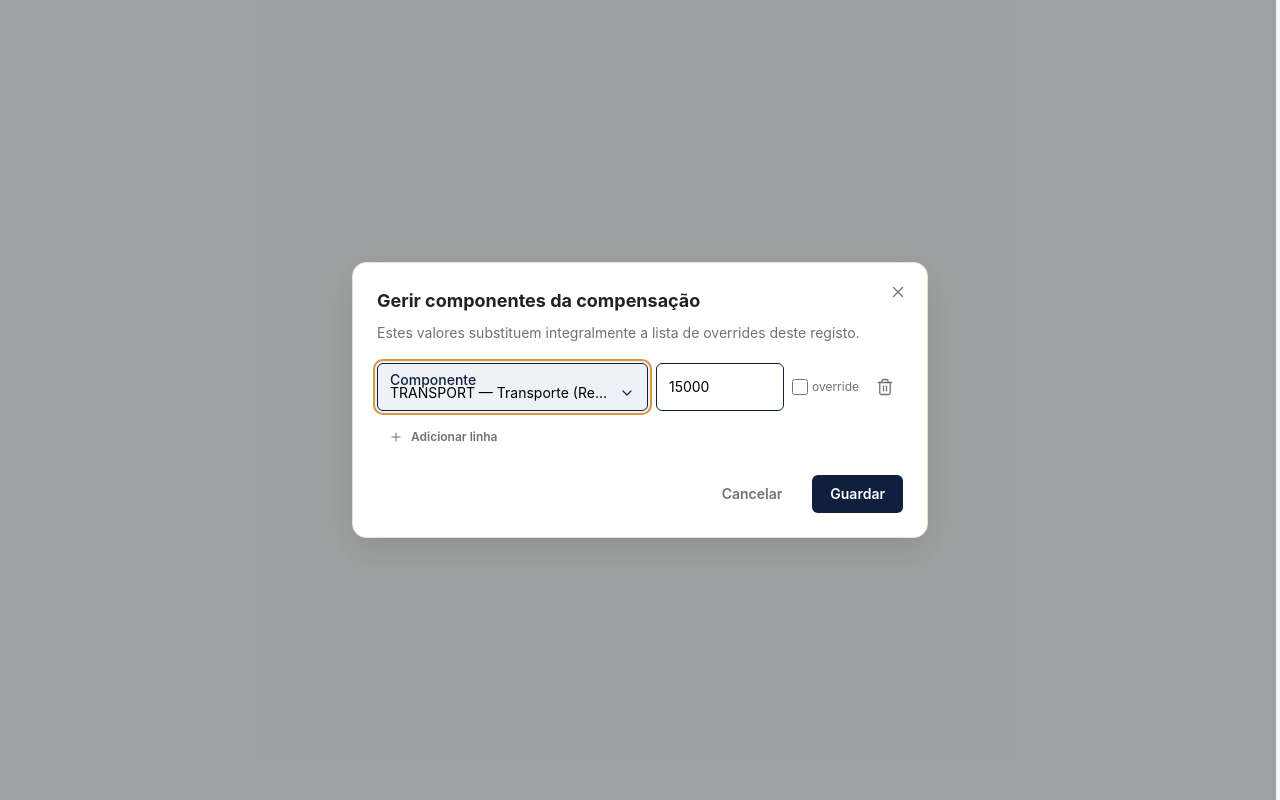
Test: CompensationComponentsEditor › F3: blocks save when a row has a value but no component selected
Click the button "Adicionar linha".
click(443, 437)  # box [377, 423, 510, 451]
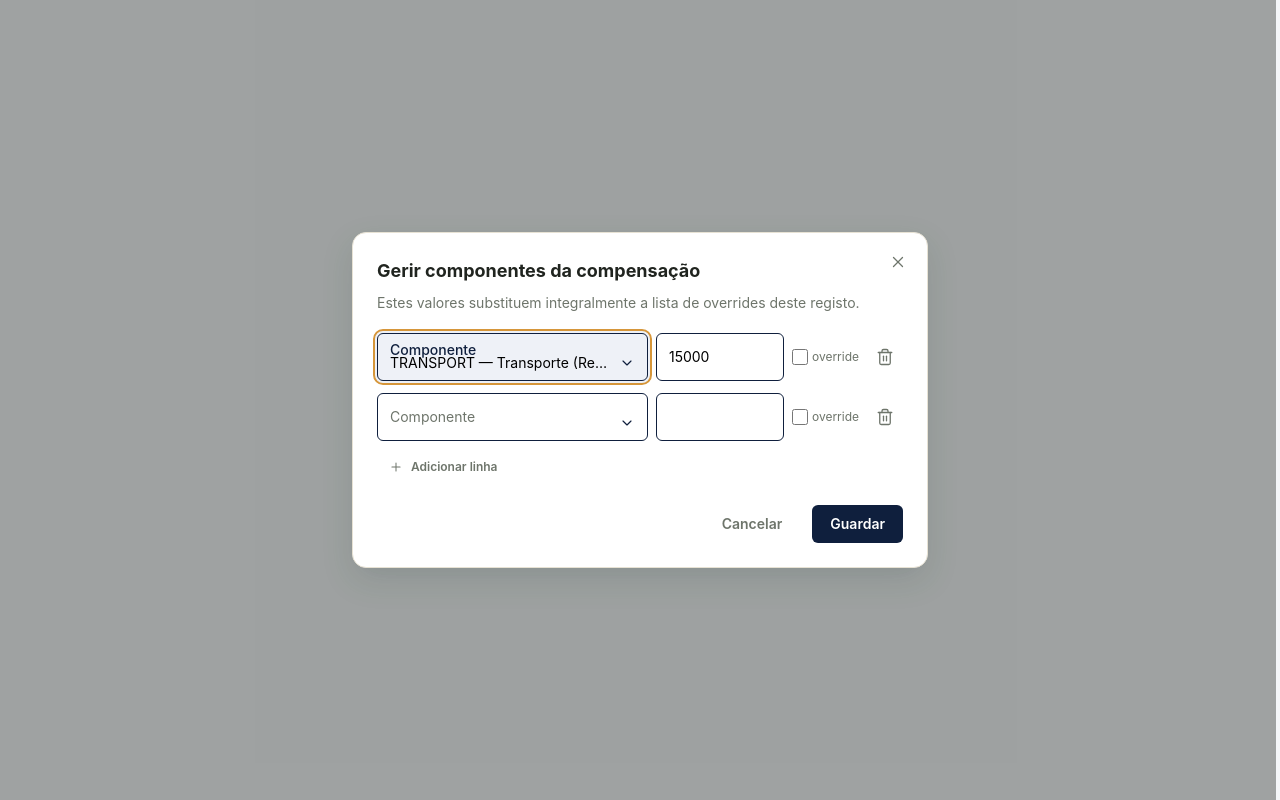
Type "5000" into the 2nd number field named "Valor".
click(720, 417); type("5000")  # box [656, 393, 784, 441]
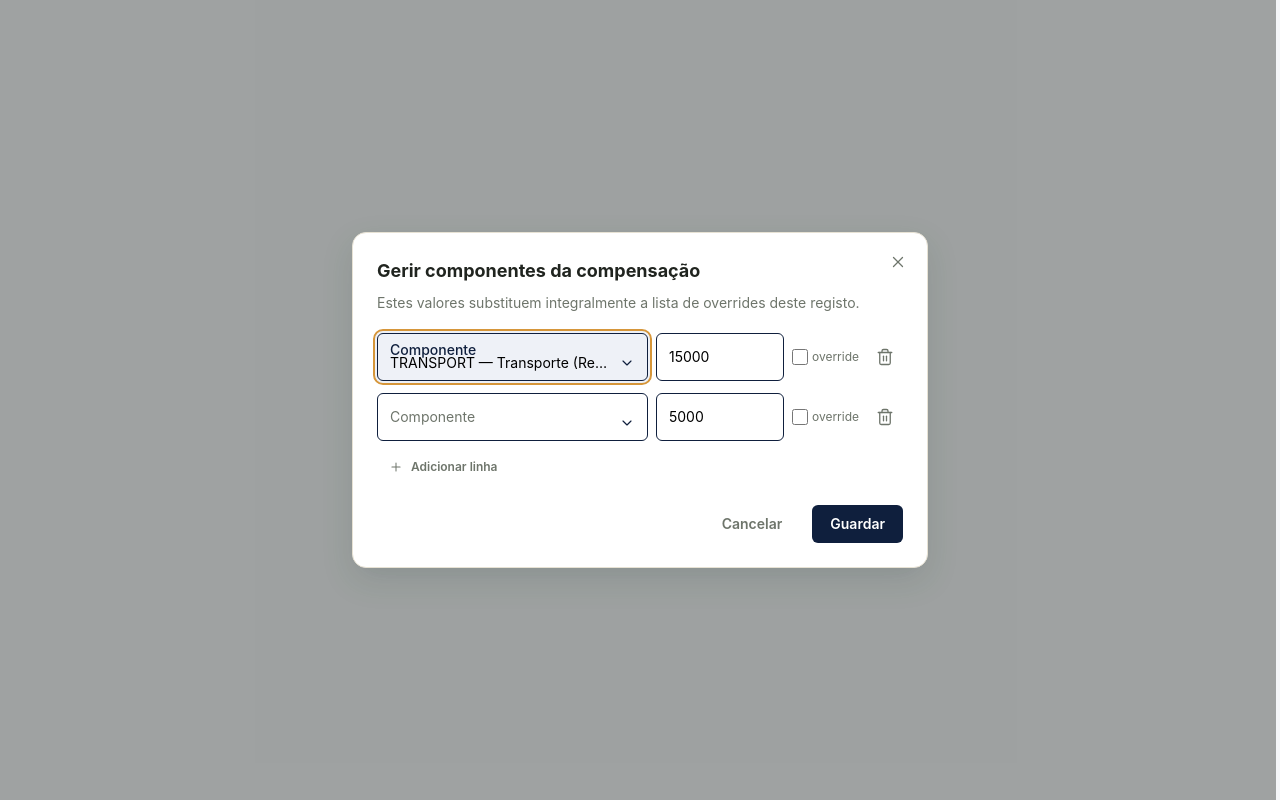
Note: component left unpicked on the new row
Click the button "Guardar".
click(858, 524)  # box [812, 505, 903, 543]
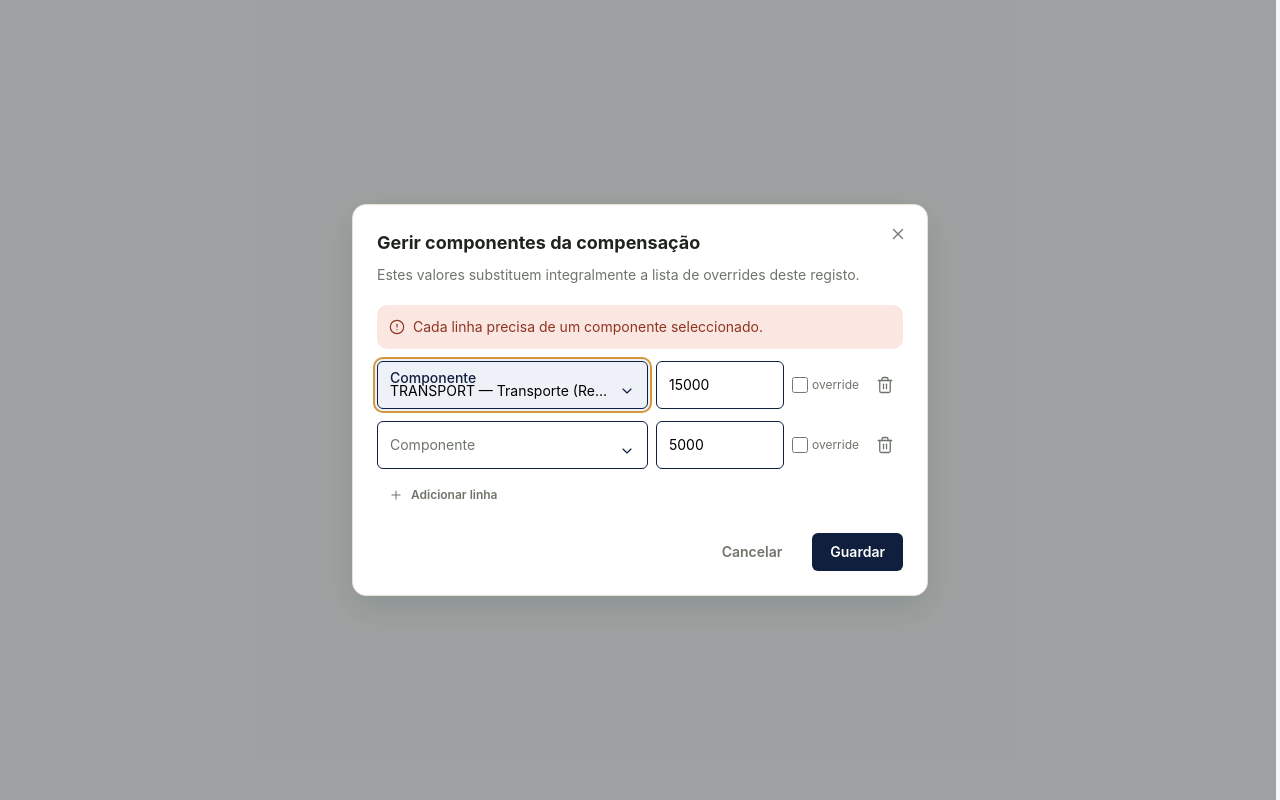
Now the text "Cada linha precisa de um componente seleccionado." is shown, box [377, 305, 903, 349]
